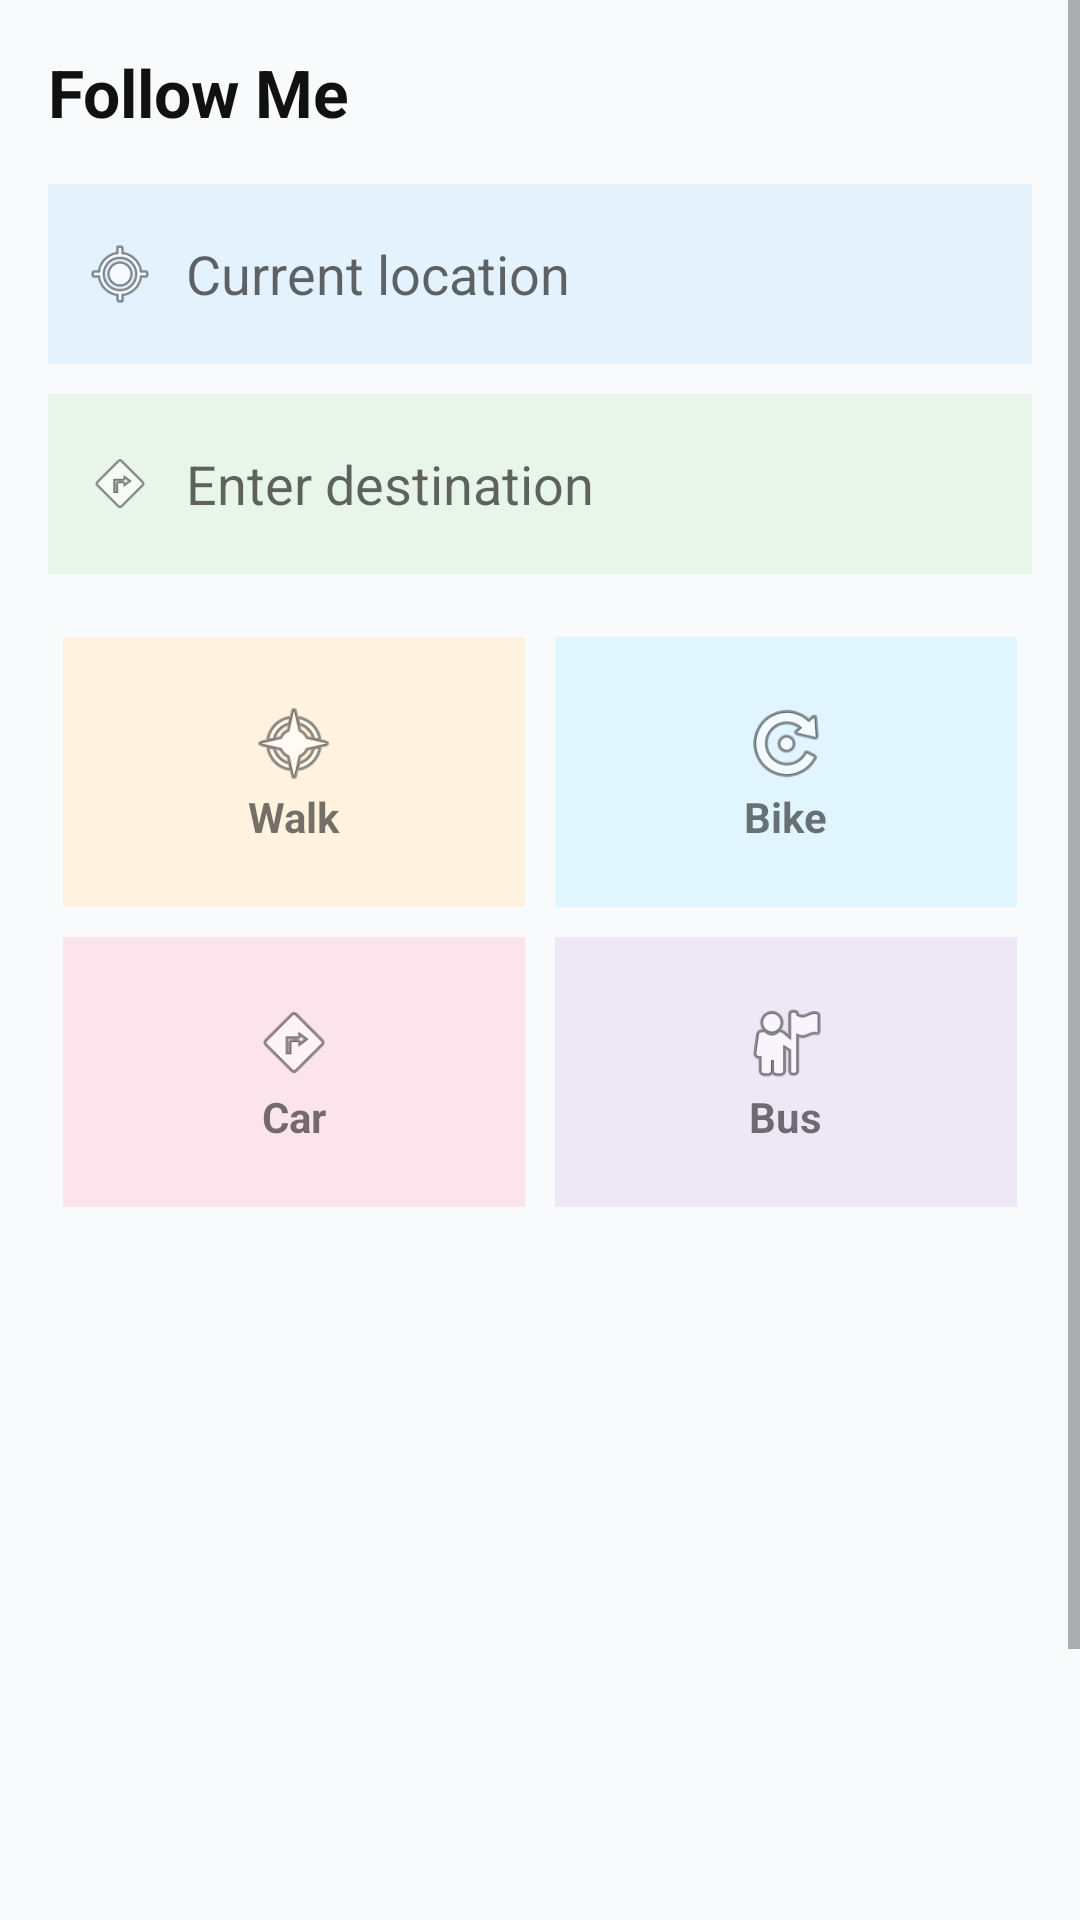

Icon click points for this 1080 × 1920 phone screenshot, format [x,y]:
compass: [293,743]
directions: [120,483], [294,1042]
mylocation: [120,274]
rotate: [786,743]
